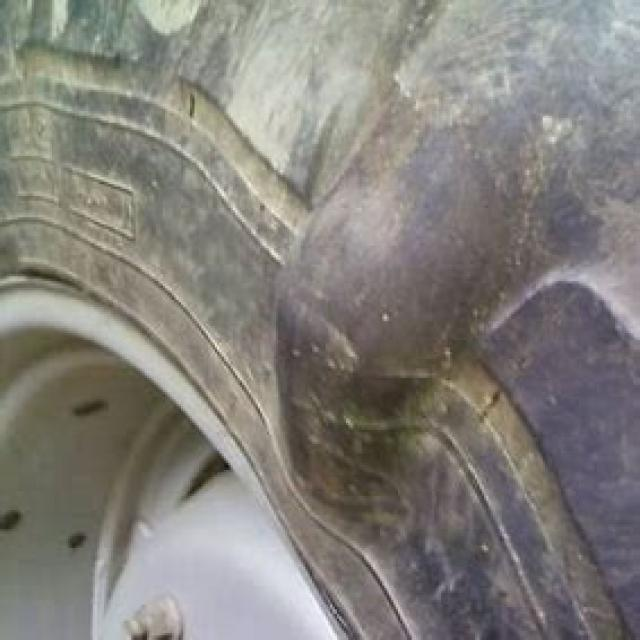Bulge: (268, 153, 504, 557)
